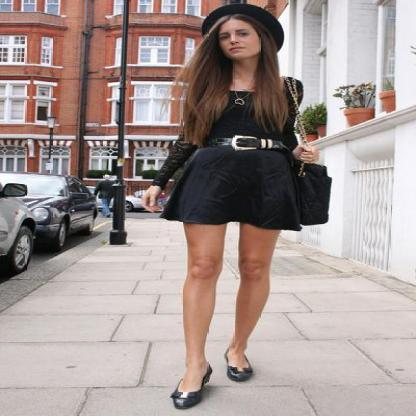bag: (296, 160, 331, 225)
dress: (140, 77, 308, 230)
hat: (202, 0, 283, 47)
shoe: (171, 363, 252, 409)
